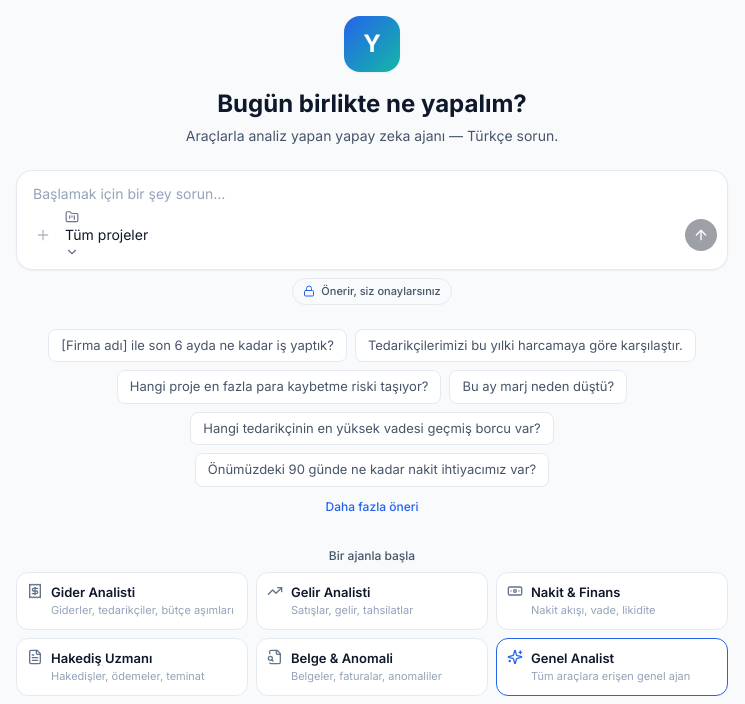
AIAssistantPage live streaming (CR-011-D) › a follow-up question after completion starts a fresh stream
Later steps or results of the test are not shown.
Type "ilk soru" into the text box at (372, 188), box [17,171,727,206]
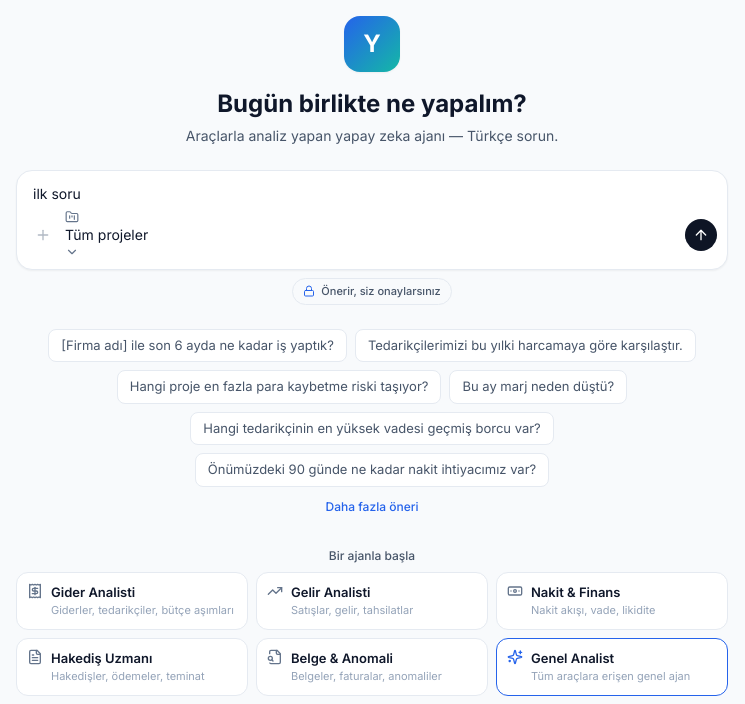
Click the button named "Gönder" at (701, 234), box [685,218,717,250]
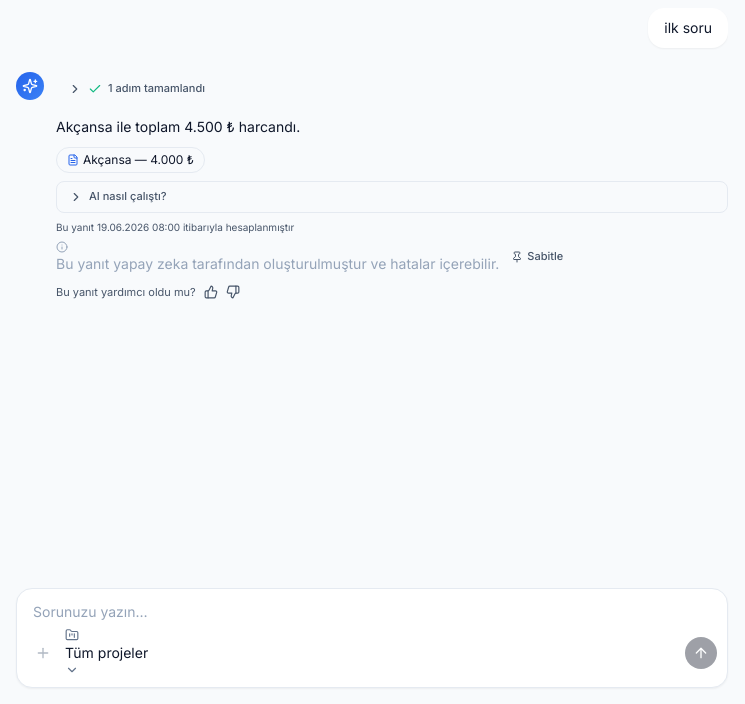
Now the text "Akçansa ile toplam 4.500 ₺ harcandı." is shown, box [56,118,300,135]
